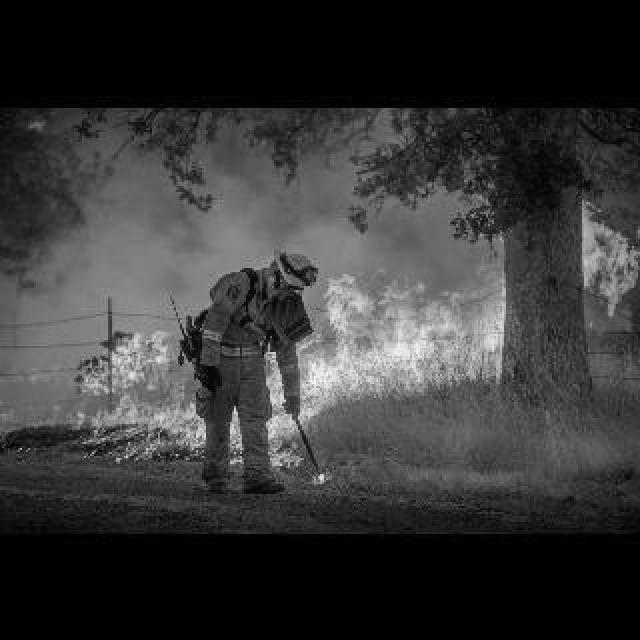Fire: (78, 186, 638, 474)
